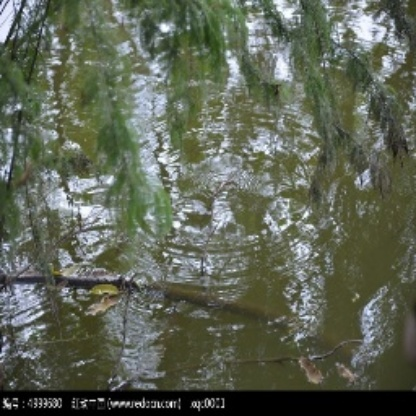branch: (8, 265, 281, 323)
